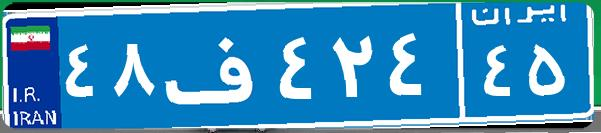2: (330, 28, 385, 110)
4: (385, 28, 445, 110), (273, 28, 330, 110), (57, 26, 110, 107), (475, 38, 525, 113)
5: (525, 38, 570, 115)
8: (110, 28, 158, 105)
ف: (158, 15, 273, 115)
